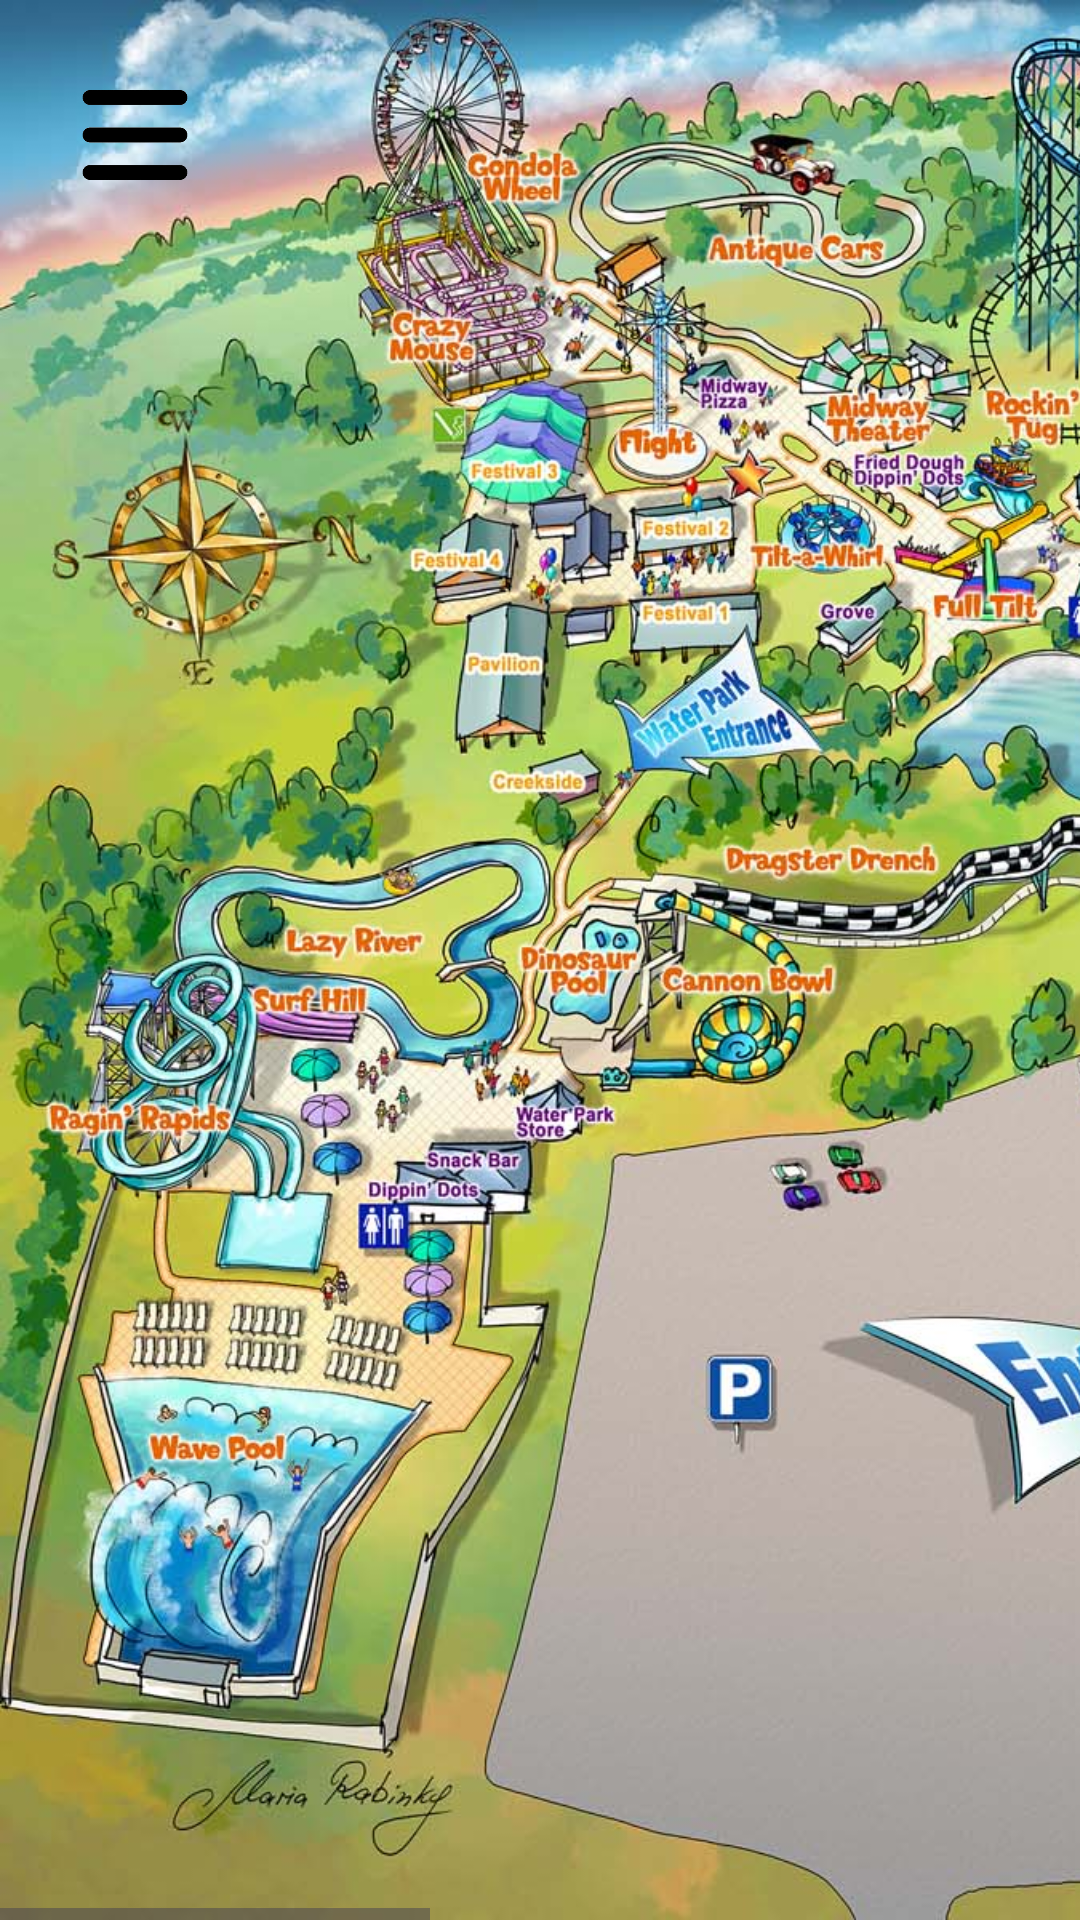

Screen size 1080*1920. Icon name, then its center in pixels as [x,y]:
menu: [135,135]
